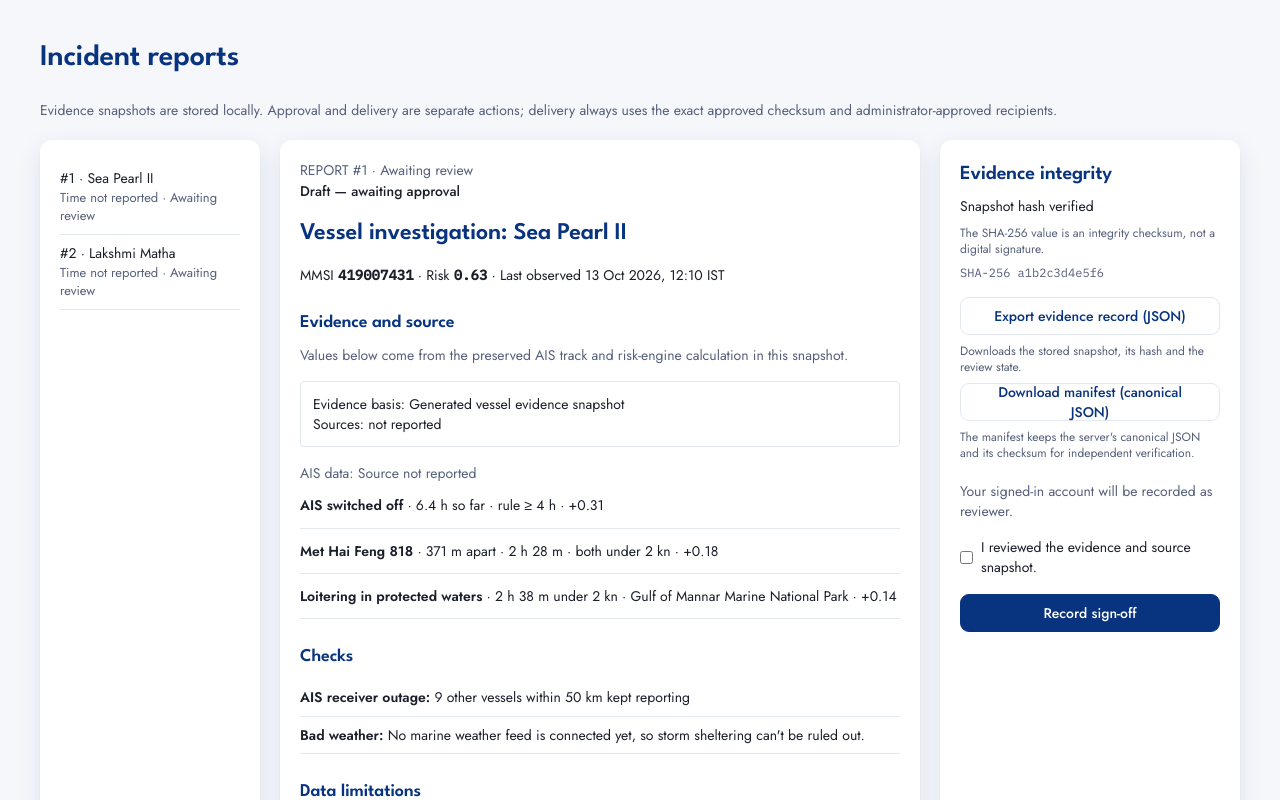
Test case: Cases / EvidencePage & ReportsPage › does not show the rejection message on report 2 after sign-off on report 1 is rejected
The width and height of the screenshot is (1280, 800).
Click the checkbox labelled "I reviewed the evidence and source snapshot." at (966, 558), box [960,537,973,578]
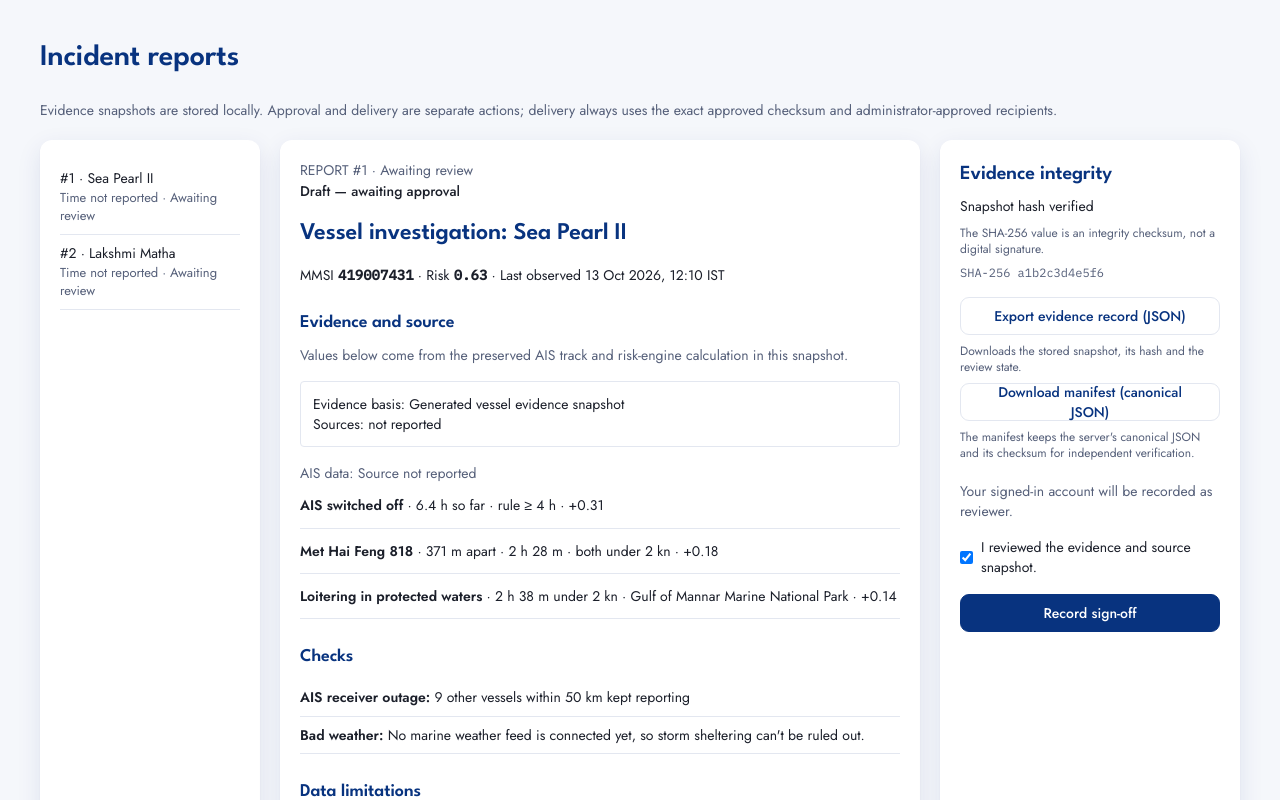
Click the button "Record sign-off" at (1090, 613), box [960,594,1220,632]
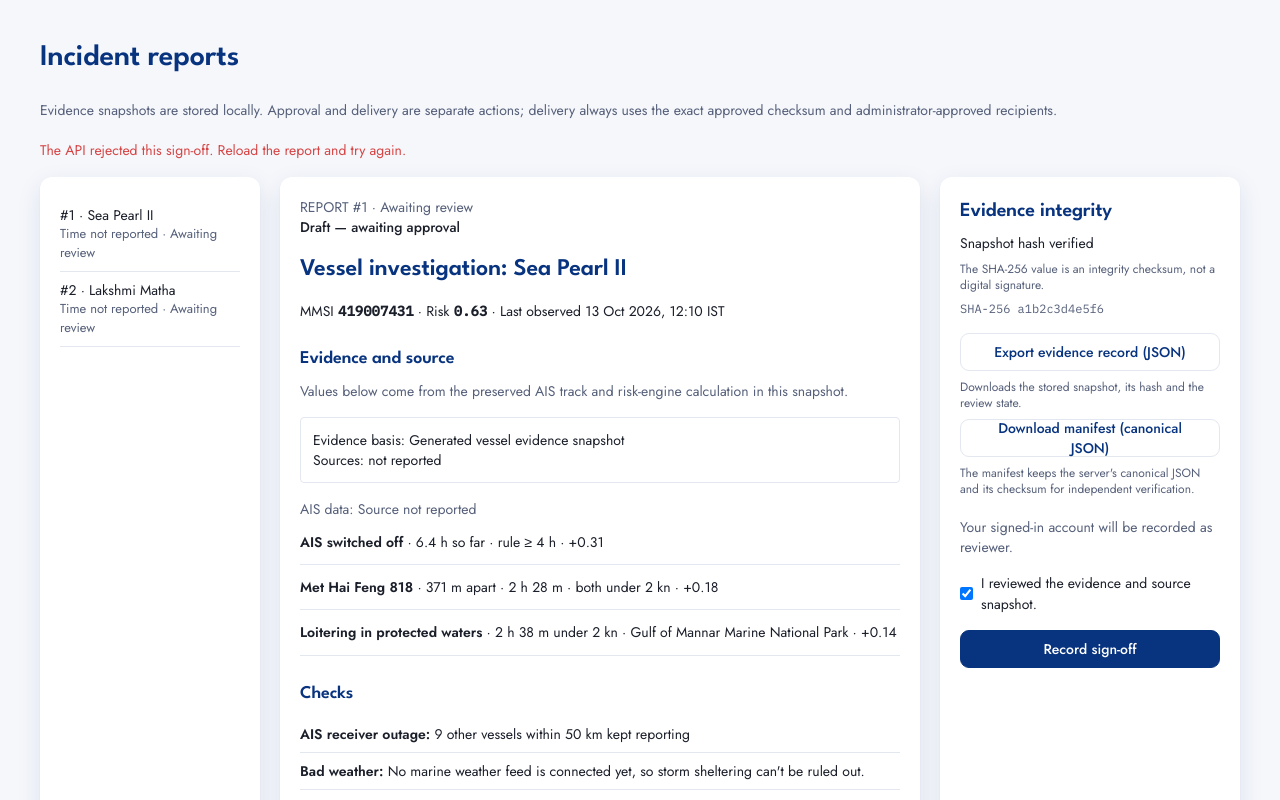
Now the message reads "The API rejected this sign-off. Reload the report and try again.", box [40,140,406,160]
Click the link "#2 · Lakshmi Matha Time not reported · Awaiting review" at (150, 309), box [60,272,240,347]
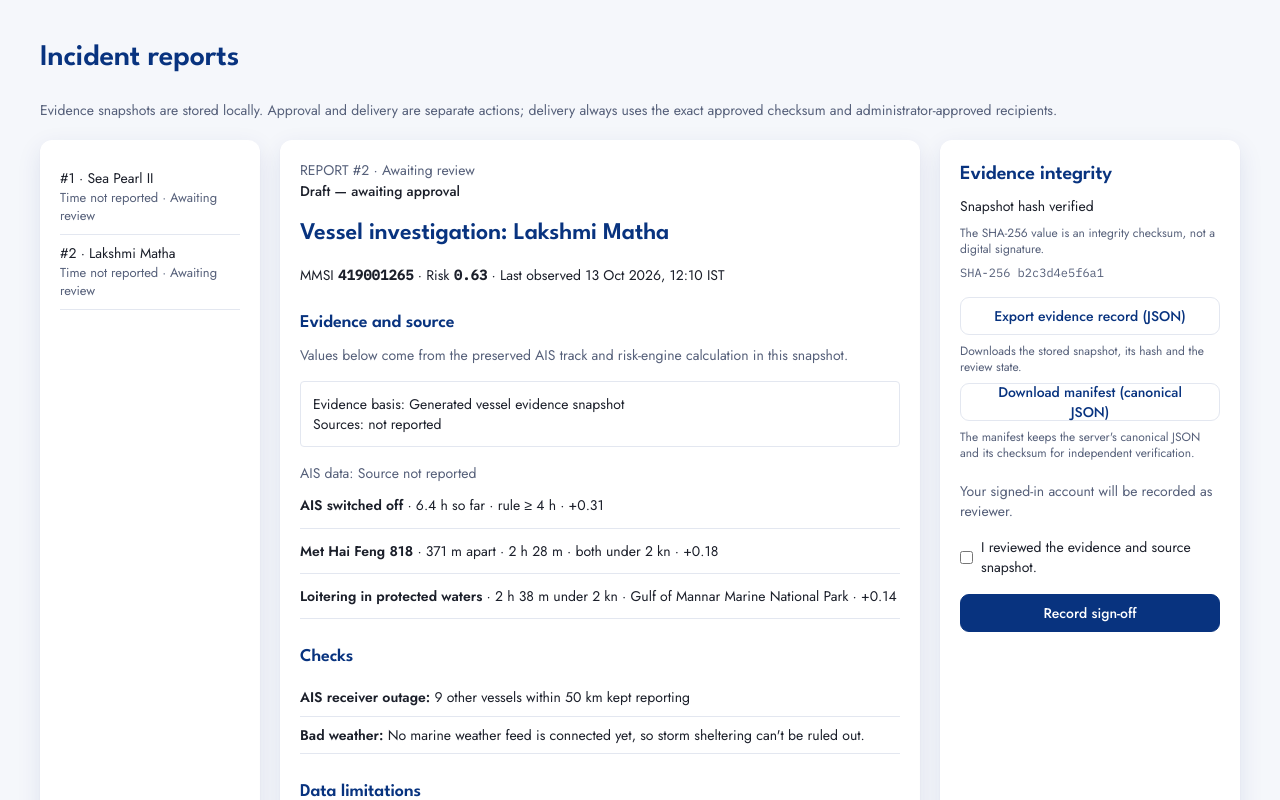
Now the text "The API rejected this sign-off" is gone
Now the message "The API rejected this sign-off. Reload the report and try again." is gone
